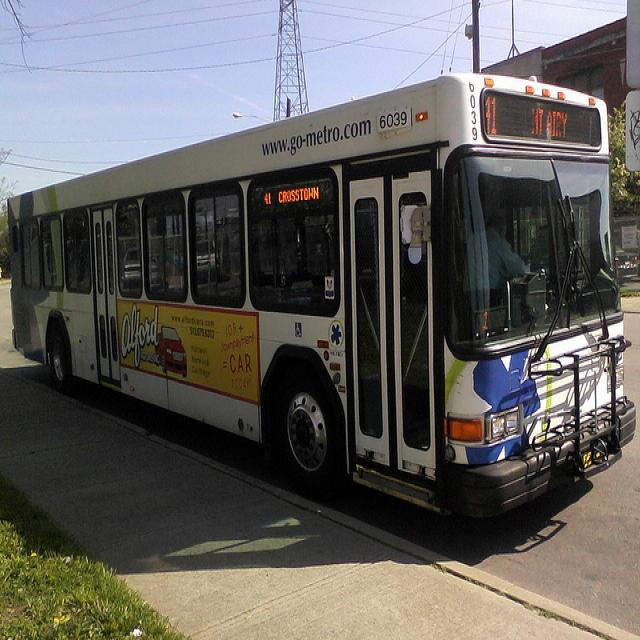Vehicle: (6, 76, 635, 523), (156, 326, 188, 378)
